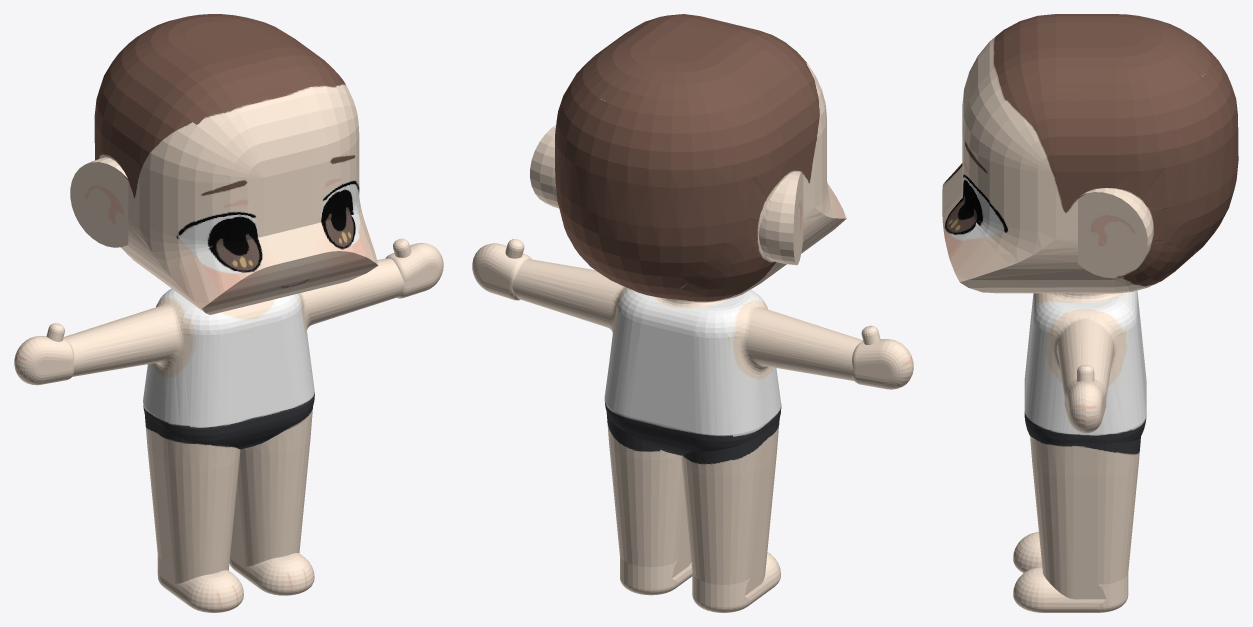
Rendered from ChrBase.gltf.
The picture shows the model from 3 angles, left to right: view 1: azimuth 30°, elevation 25°; view 2: azimuth 150°, elevation 25°; view 3: azimuth 270°, elevation 25°; orthographic projection. The views are drawn at different scales.
Parts seen in each view (by area): view 1: ChrBase; view 2: ChrBase; view 3: ChrBase.
Boxes of the visible parts, x1,y1,x2,y2 form: ChrBase: (14, 14, 443, 612); ChrBase: (472, 14, 913, 612); ChrBase: (942, 14, 1238, 612).
Size of the model in its own units: 1.02 by 1.23 by 0.6.
Materials: 1 (1 with a texture image).
